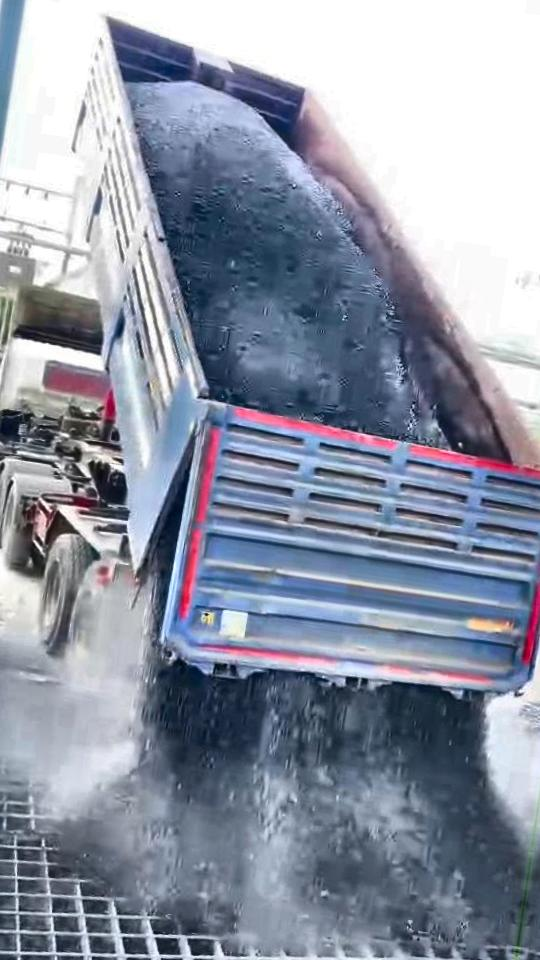gravel: (101, 534, 527, 946), (127, 82, 445, 446)
